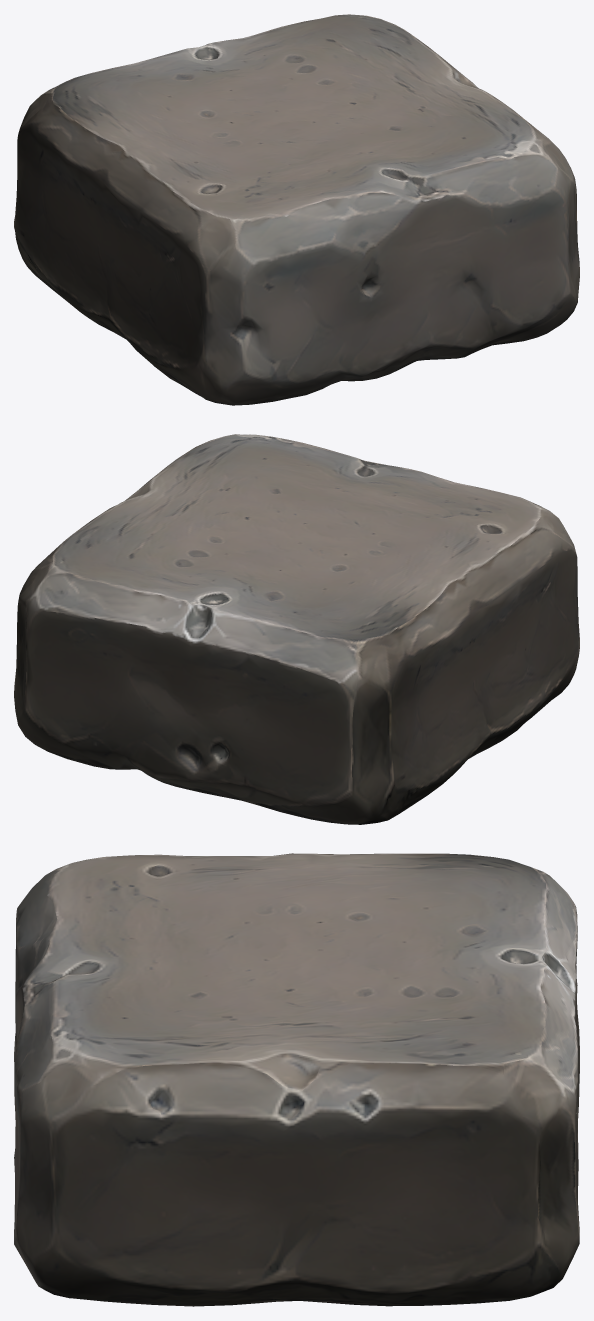
Rendered from stone.glb.
The picture shows the model from 3 angles, top to bottom: view 1: azimuth 30°, elevation 25°; view 2: azimuth 150°, elevation 25°; view 3: azimuth 270°, elevation 25°; orthographic projection. The views are drawn at different scales.
Visible parts, largest first — view 1: input; view 2: input; view 3: input.
Boxes of the visible parts, bbox=[...] form: input: bbox=[14, 14, 579, 405]; input: bbox=[14, 434, 579, 824]; input: bbox=[14, 853, 579, 1306].
Size of the model in its own units: 0.9992 by 0.4792 by 0.9932.
Materials: 1 (1 with a texture image).
